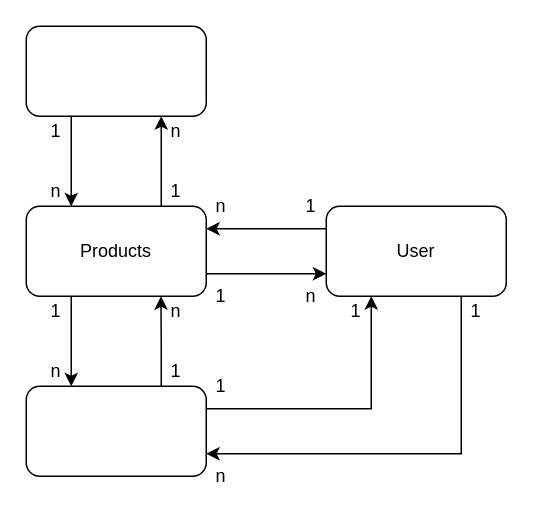
This 533x518 diagram has some shape labels left out. Here are the shapes that lost their labels. From the top down, the centre of each, then its label:
At point 115,70: "Admin".
At point 115,430: "Order".
